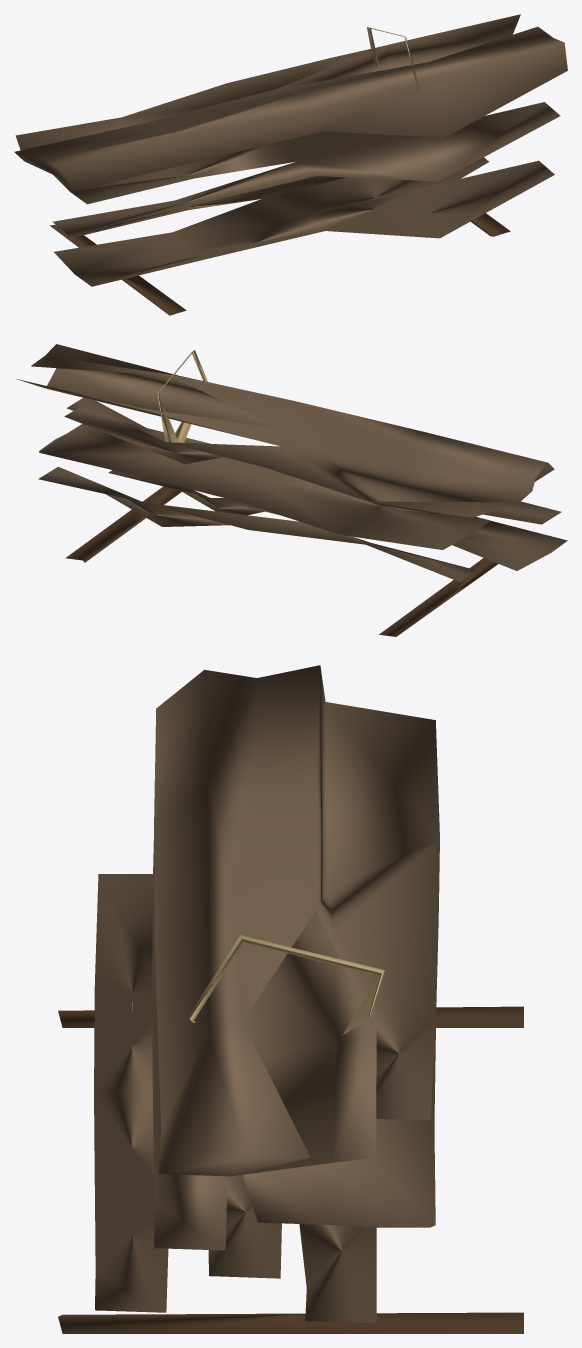
The model's file is build_timber-stack_t1.glb.
3 views of the same model, one above another, from view 1: azimuth 30°, elevation 25°; view 2: azimuth 150°, elevation 25°; view 3: azimuth 270°, elevation 25° (orthographic). The views are drawn at different scales.
Visible parts, largest first — view 1: wood, wood_dark; view 2: wood, wood_dark, rope; view 3: wood, wood_dark, rope.
Part boxes in pixels (x1,y1,x2,y2): wood: [14, 14, 567, 286]; wood_dark: [49, 213, 510, 315]; wood: [16, 344, 567, 581]; wood_dark: [65, 486, 498, 636]; rope: [157, 350, 207, 442]; wood: [94, 665, 439, 1323]; wood_dark: [58, 1006, 523, 1333]; rope: [187, 935, 384, 1035].
Size of the model in its own units: 2.57 by 0.8326 by 1.03.
